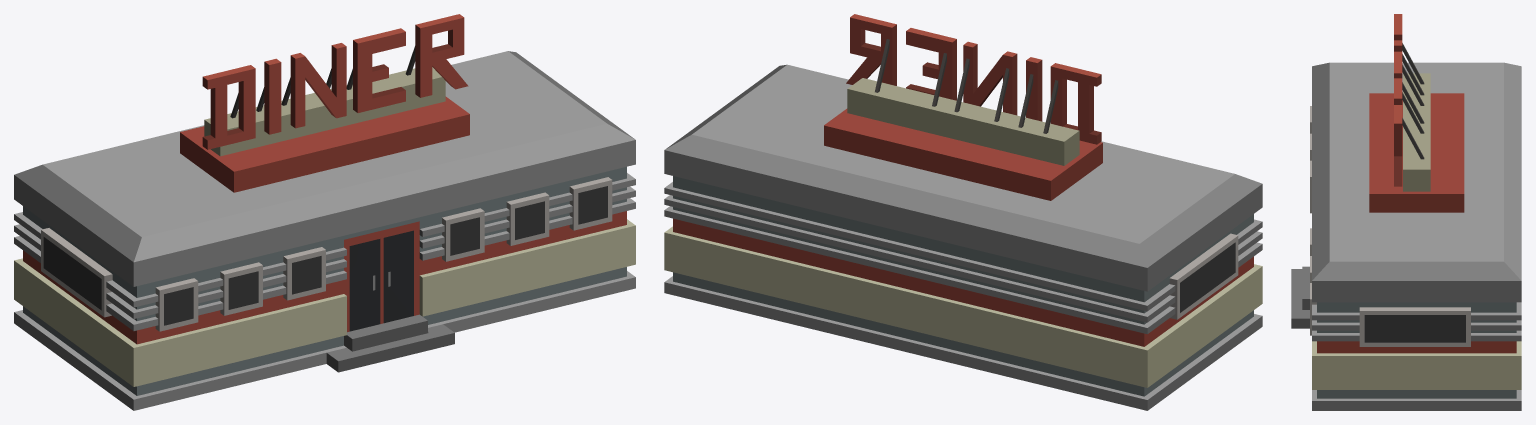
Rendered from SA_Bld_Diner_01.gltf.
3 renders of one model, left to right at view 1: azimuth 30°, elevation 25°; view 2: azimuth 150°, elevation 25°; view 3: azimuth 270°, elevation 25°, orthographic. The views are drawn at different scales.
Parts seen in each view (by area): view 1: SA_Bld_Diner_01; view 2: SA_Bld_Diner_01; view 3: SA_Bld_Diner_01.
Boxes of the visible parts, x1,y1,x2,y2 form: SA_Bld_Diner_01: (14, 14, 635, 410); SA_Bld_Diner_01: (664, 14, 1262, 410); SA_Bld_Diner_01: (1291, 14, 1521, 410).
Size of the model in its own units: 23.27 by 11.73 by 10.46.
1 material, 1 textured.
